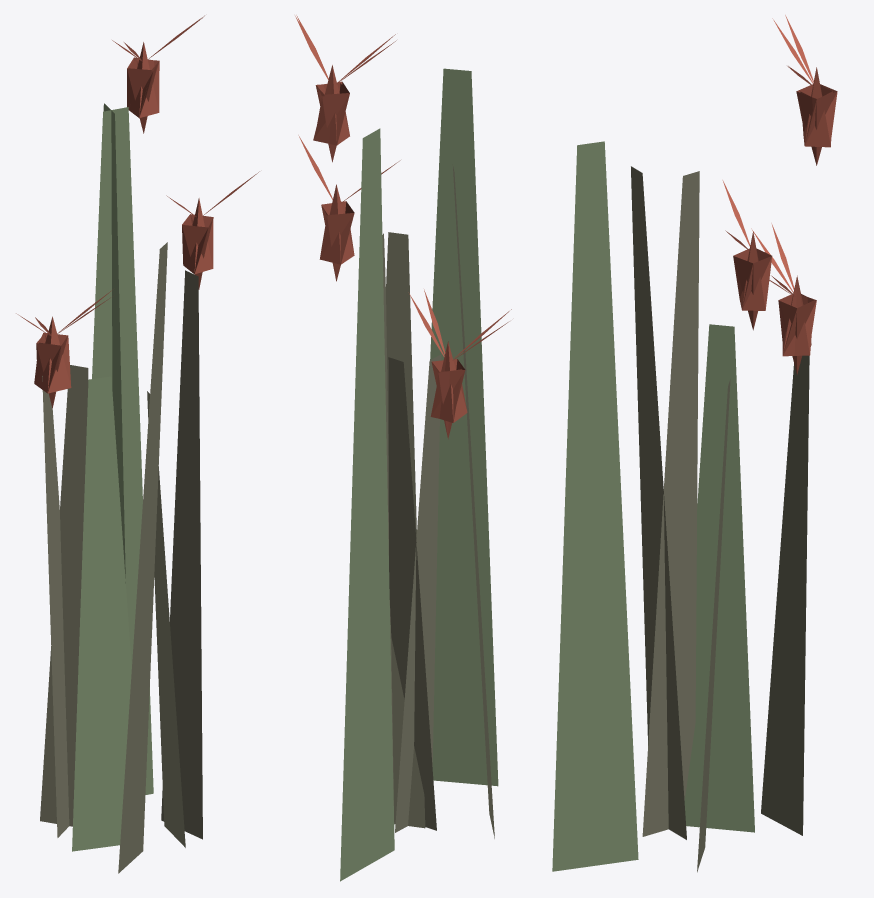
The model's file is shui.pucao@fruiting__winter.glb.
The picture shows the model from 3 angles, left to right: view 1: azimuth 30°, elevation 25°; view 2: azimuth 150°, elevation 25°; view 3: azimuth 270°, elevation 25°; orthographic projection. The views are drawn at different scales.
Visible parts, largest first — view 1: shui.pucao@fruiting__winter; view 2: shui.pucao@fruiting__winter; view 3: shui.pucao@fruiting__winter.
Boxes of the visible parts, x1,y1,x2,y2 form: shui.pucao@fruiting__winter: (16, 15, 259, 873); shui.pucao@fruiting__winter: (295, 15, 511, 881); shui.pucao@fruiting__winter: (552, 15, 837, 872).
Size of the model in its own units: 0.7192 by 2.36 by 0.7877.
